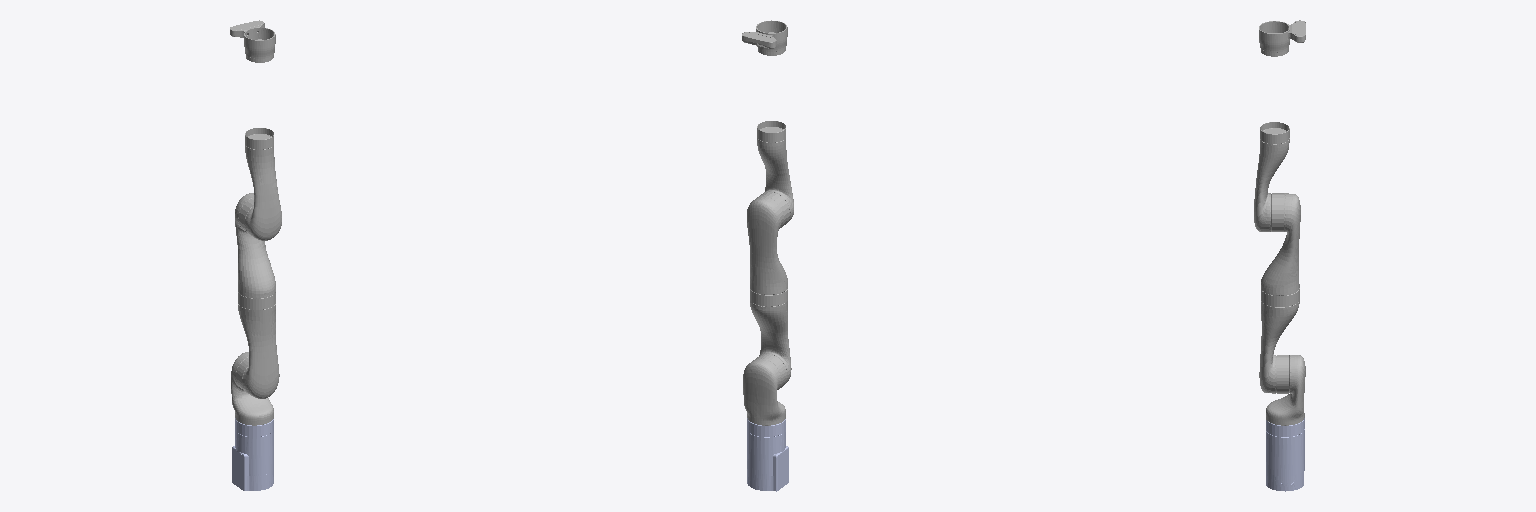
robot.urdf — JACO3_URDF_V11:
<robot
  name="JACO3_URDF_V11" version="1.0">
  <link
    name="base_link">
    <inertial>
      <origin
        xyz="-0.000648 -0.000166 0.084487"
        rpy="0 0 0" />
      <mass
        value="1.697353" />
      <inertia
        ixx="0.004622"
        ixy="9E-06"
        ixz="6E-05"
        iyy="0.004495"
        iyz="9E-06"
        izz="0.002079" />
    </inertial>
    <visual>
      <origin
        xyz="0 0 0"
        rpy="0 0 0" />
      <geometry>
        <mesh
          filename="package://kortex_description/meshes/base_link.STL" />
      </geometry>
      <material
        name="">
        <color
          rgba="0.79216 0.81961 0.93333 1" />
      </material>
    </visual>
    <collision>
      <origin
        xyz="0 0 0"
        rpy="0 0 0" />
      <geometry>
        <mesh
          filename="package://kortex_description/meshes/base_link.STL" />
      </geometry>
    </collision>
  </link>
  <link
    name="Shoulder_Link">
    <inertial>
      <origin
        xyz="-2.3E-05 -0.010364 -0.07336"
        rpy="0 0 0" />
      <mass
        value="1.377353" />
      <inertia
        ixx="0.00457"
        ixy="1E-06"
        ixz="2E-06"
        iyy="0.004831"
        iyz="0.000448"
        izz="0.001409" />
    </inertial>
    <visual>
      <origin
        xyz="0 0 0"
        rpy="0 0 0" />
      <geometry>
        <mesh
          filename="package://kortex_description/meshes/Shoulder_Link.STL" />
      </geometry>
      <material
        name="">
        <color
          rgba="0.75294 0.75294 0.75294 1" />
      </material>
    </visual>
    <collision>
      <origin
        xyz="0 0 0"
        rpy="0 0 0" />
      <geometry>
        <mesh
          filename="package://kortex_description/meshes/Shoulder_Link.STL" />
      </geometry>
    </collision>
  </link>
  <joint
    name="Actuator1"
    type="continuous">
    <origin
      xyz="6.1995E-05 0 0.15643"
      rpy="-3.1416 3.2891E-18 1.9637E-50" />
    <parent
      link="base_link" />
    <child
      link="Shoulder_Link" />
    <axis
      xyz="0 0 1" />
    <limit
      effort="39"
      velocity="0.8727" />
  </joint>
  <link
    name="HalfArm1_Link">
    <inertial>
      <origin
        xyz="-4.4E-05 -0.09958 -0.013278"
        rpy="0 0 0" />
      <mass
        value="1.163667" />
      <inertia
        ixx="0.011088"
        ixy="5E-06"
        ixz="0"
        iyy="0.001072"
        iyz="-0.000691"
        izz="0.011255" />
    </inertial>
    <visual>
      <origin
        xyz="0 0 0"
        rpy="0 0 0" />
      <geometry>
        <mesh
          filename="package://kortex_description/meshes/HalfArm1_Link.STL" />
      </geometry>
      <material
        name="">
        <color
          rgba="0.75294 0.75294 0.75294 1" />
      </material>
    </visual>
    <collision>
      <origin
        xyz="0 0 0"
        rpy="0 0 0" />
      <geometry>
        <mesh
          filename="package://kortex_description/meshes/HalfArm1_Link.STL" />
      </geometry>
    </collision>
  </link>
  <joint
    name="Actuator2"
    type="revolute">
    <origin
      xyz="0 0.005375 -0.12838"
      rpy="1.5708 2.4106E-17 3.1919E-16" />
    <parent
      link="Shoulder_Link" />
    <child
      link="HalfArm1_Link" />
    <axis
      xyz="0 0 1" />
    <limit
      lower="-2.2"
      upper="2.2"
      effort="39"
      velocity="0.8727" />
  </joint>
  <link
    name="HalfArm2_Link">
    <inertial>
      <origin
        xyz="-4.4E-05 -0.006641 -0.117892"
        rpy="0 0 0" />
      <mass
        value="1.16366" />
      <inertia
        ixx="0.010932"
        ixy="0"
        ixz="-7E-06"
        iyy="0.011127"
        iyz="0.000606"
        izz="0.001043" />
    </inertial>
    <visual>
      <origin
        xyz="0 0 0"
        rpy="0 0 0" />
      <geometry>
        <mesh
          filename="package://kortex_description/meshes/HalfArm2_Link.STL" />
      </geometry>
      <material
        name="">
        <color
          rgba="0.75294 0.75294 0.75294 1" />
      </material>
    </visual>
    <collision>
      <origin
        xyz="0 0 0"
        rpy="0 0 0" />
      <geometry>
        <mesh
          filename="package://kortex_description/meshes/HalfArm2_Link.STL" />
      </geometry>
    </collision>
  </link>
  <joint
    name="Actuator3"
    type="continuous">
    <origin
      xyz="0 -0.21038 -0.006375"
      rpy="-1.5708 9.8608E-32 -2.7983E-16" />
    <parent
      link="HalfArm1_Link" />
    <child
      link="HalfArm2_Link" />
    <axis
      xyz="0 0 1" />
    <limit
      effort="39"
      velocity="0.8727" />
  </joint>
  <link
    name="ForeArm_Link">
    <inertial>
      <origin
        xyz="-1.8E-05 -0.075478 -0.015006"
        rpy="0 0 0" />
      <mass
        value="0.930287" />
      <inertia
        ixx="0.008147"
        ixy="-1E-06"
        ixz="0"
        iyy="0.000631"
        iyz="-0.0005"
        izz="0.008316" />
    </inertial>
    <visual>
      <origin
        xyz="0 0 0"
        rpy="0 0 0" />
      <geometry>
        <mesh
          filename="package://kortex_description/meshes/ForeArm_Link.STL" />
      </geometry>
      <material
        name="">
        <color
          rgba="0.75294 0.75294 0.75294 1" />
      </material>
    </visual>
    <collision>
      <origin
        xyz="0 0 0"
        rpy="0 0 0" />
      <geometry>
        <mesh
          filename="package://kortex_description/meshes/ForeArm_Link.STL" />
      </geometry>
    </collision>
  </link>
  <joint
    name="Actuator4"
    type="revolute">
    <origin
      xyz="0 0.006375 -0.21038"
      rpy="1.5708 3.0688E-17 -6.9389E-18" />
    <parent
      link="HalfArm2_Link" />
    <child
      link="ForeArm_Link" />
    <axis
      xyz="0 0 1" />
    <limit
      lower="-2.5656"
      upper="2.5656"
      effort="39"
      velocity="0.8727" />
  </joint>
  <link
    name="SphericalWrist1_Link">
    <inertial>
      <origin
        xyz="1E-06 -0.009432 -0.063883"
        rpy="0 0 0" />
      <mass
        value="0.678106" />
      <inertia
        ixx="0.001596"
        ixy="0"
        ixz="0"
        iyy="0.001607"
        iyz="0.000256"
        izz="0.000399" />
    </inertial>
    <visual>
      <origin
        xyz="0 0 0"
        rpy="0 0 0" />
      <geometry>
        <mesh
          filename="package://kortex_description/meshes/SphericalWrist1_Link.STL" />
      </geometry>
      <material
        name="">
        <color
          rgba="0.75294 0.75294 0.75294 1" />
      </material>
    </visual>
    <collision>
      <origin
        xyz="0 0 0"
        rpy="0 0 0" />
      <geometry>
        <mesh
          filename="package://kortex_description/meshes/SphericalWrist1_Link.STL" />
      </geometry>
    </collision>
  </link>
  <joint
    name="Actuator5"
    type="continuous">
    <origin
      xyz="0 -0.20843 -0.006375"
      rpy="-1.5708 1.497E-17 7.6501E-17" />
    <parent
      link="ForeArm_Link" />
    <child
      link="SphericalWrist1_Link" />
    <axis
      xyz="0 0 1" />
    <limit
      effort="9"
      velocity="0.8727" />
  </joint>
  <link
    name="SphericalWrist2_Link">
    <inertial>
      <origin
        xyz="1E-06 -0.045483 -0.00965"
        rpy="0 0 0" />
      <mass
        value="0.678106" />
      <inertia
        ixx="0.001641"
        ixy="0"
        ixz="0"
        iyy="0.00041"
        iyz="-0.000278"
        izz="0.001641" />
    </inertial>
    <visual>
      <origin
        xyz="0 0 0"
        rpy="0 0 0" />
      <geometry>
        <mesh
          filename="package://kortex_description/meshes/SphericalWrist2_Link.STL" />
      </geometry>
      <material
        name="">
        <color
          rgba="0.75294 0.75294 0.75294 1" />
      </material>
    </visual>
    <collision>
      <origin
        xyz="0 0 0"
        rpy="0 0 0" />
      <geometry>
        <mesh
          filename="package://kortex_description/meshes/SphericalWrist2_Link.STL" />
      </geometry>
    </collision>
  </link>
  <joint
    name="Actuator6"
    type="revolute">
    <origin
      xyz="0 0.00017505 -0.10593"
      rpy="1.5708 3.3255E-17 -8.0962E-15" />
    <parent
      link="SphericalWrist1_Link" />
    <child
      link="SphericalWrist2_Link" />
    <axis
      xyz="0 0 1" />
    <limit
      lower="-2.05"
      upper="2.05"
      effort="9"
      velocity="0.8727" />
  </joint>
  <link
    name="Bracelet_Link">
    <inertial>
      <origin
        xyz="-0.000281 -0.011402 -0.03108"
        rpy="0 0 0" />
      <mass
        value="0.500657" />
      <inertia
        ixx="0.00057"
        ixy="2E-06"
        ixz="3E-06"
        iyy="0.000352"
        iyz="0.000111"
        izz="0.000609" />
    </inertial>
    <visual>
      <origin
        xyz="0 0 0"
        rpy="0 0 0" />
      <geometry>
        <mesh
          filename="package://kortex_description/meshes/Bracelet_Link.STL" />
      </geometry>
      <material
        name="">
        <color
          rgba="0.75294 0.75294 0.75294 1" />
      </material>
    </visual>
    <collision>
      <origin
        xyz="0 0 0"
        rpy="0 0 0" />
      <geometry>
        <mesh
          filename="package://kortex_description/meshes/Bracelet_Link.STL" />
      </geometry>
    </collision>
  </link>
  <joint
    name="Actuator7"
    type="continuous">
    <origin
      xyz="0 -0.10593 -0.00017505"
      rpy="-1.5708 -2.3419E-17 1.52E-17" />
    <parent
      link="SphericalWrist2_Link" />
    <child
      link="Bracelet_Link" />
    <axis
      xyz="0 0 1" />
    <limit
      effort="9"
      velocity="0.8727" />
  </joint>
  <link name="EndEffector_Link" />
  <joint
    name="EndEffector"
    type="fixed">
    <origin
      xyz="0 0 -0.061525"
      rpy="3.1416 1.0815E-32 0" />
    <parent
      link="Bracelet_Link" />
    <child
      link="EndEffector_Link" />
    <axis
      xyz="0 0 0" />
  </joint>
</robot>

--- Render facts (derived) ---
The picture shows the robot from 3 angles, left to right: view 1: azimuth 30°, elevation 25°; view 2: azimuth 150°, elevation 25°; view 3: azimuth 270°, elevation 25°; orthographic projection.
Robot: JACO3_URDF_V11 — 9 links, 8 joints (3 revolute, 4 continuous, 1 fixed); root link base_link; default pose: every joint at zero.
Links seen in each view (by area): view 1: HalfArm1_Link, ForeArm_Link, base_link, HalfArm2_Link, Shoulder_Link, Bracelet_Link; view 2: HalfArm2_Link, base_link, Shoulder_Link, HalfArm1_Link, ForeArm_Link, Bracelet_Link; view 3: HalfArm2_Link, base_link, HalfArm1_Link, ForeArm_Link, Shoulder_Link, Bracelet_Link.
Link boxes in pixels (x1,y1,x2,y2): HalfArm1_Link: (238,292,279,398); ForeArm_Link: (245,128,281,240); base_link: (232,418,273,490); HalfArm2_Link: (235,193,275,298); Shoulder_Link: (231,352,273,425); Bracelet_Link: (230,20,275,62); HalfArm2_Link: (747,192,789,294); base_link: (747,418,788,491); Shoulder_Link: (743,354,786,425); HalfArm1_Link: (750,289,791,383); ForeArm_Link: (757,121,793,224); Bracelet_Link: (742,20,787,55); HalfArm2_Link: (1261,193,1300,295); base_link: (1266,418,1304,491); HalfArm1_Link: (1259,288,1299,393); ForeArm_Link: (1254,122,1289,231); Shoulder_Link: (1266,355,1305,425); Bracelet_Link: (1259,20,1305,56).
Size in the robot's own frame: 0.0927 by 0.1239 by 1.19 metres.
6 mesh visuals loaded from 8 distinct referenced files (6 binary STL); not drawn: 2 (reference not matched to a file when rendering).